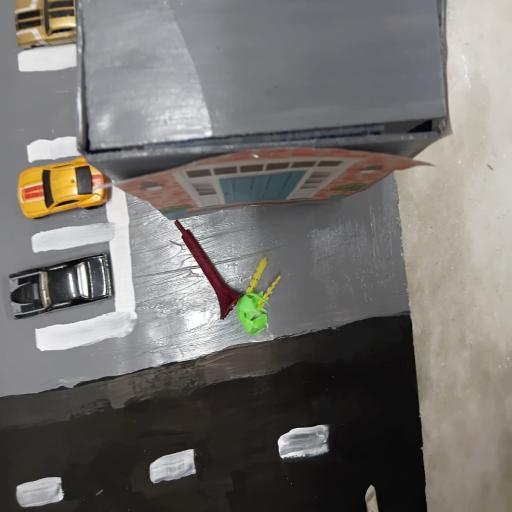fallen trees: (162, 219, 299, 342)
